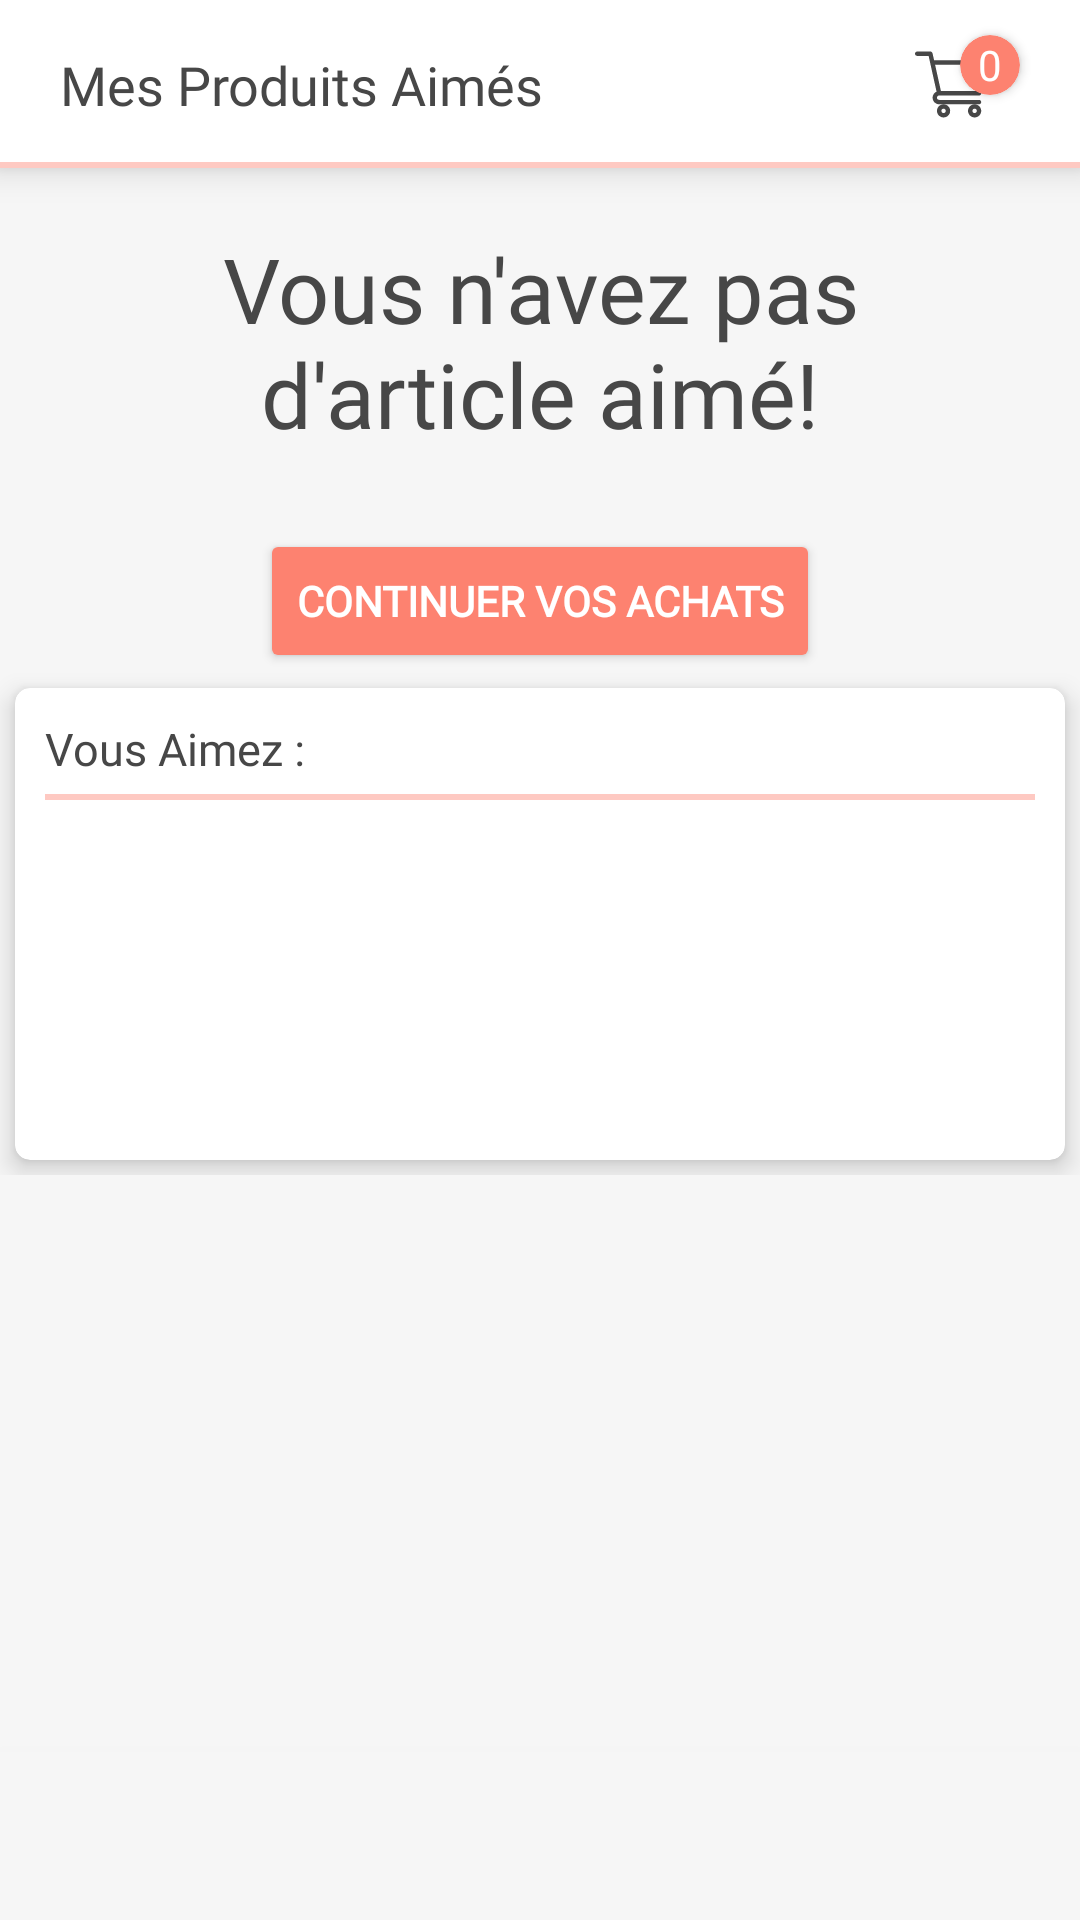

Screen size 1080px x 1920px. Icon name, then its box in pixels as [x1,y1,x2,y2]:
commerce and shopping: [915,47,990,118]
